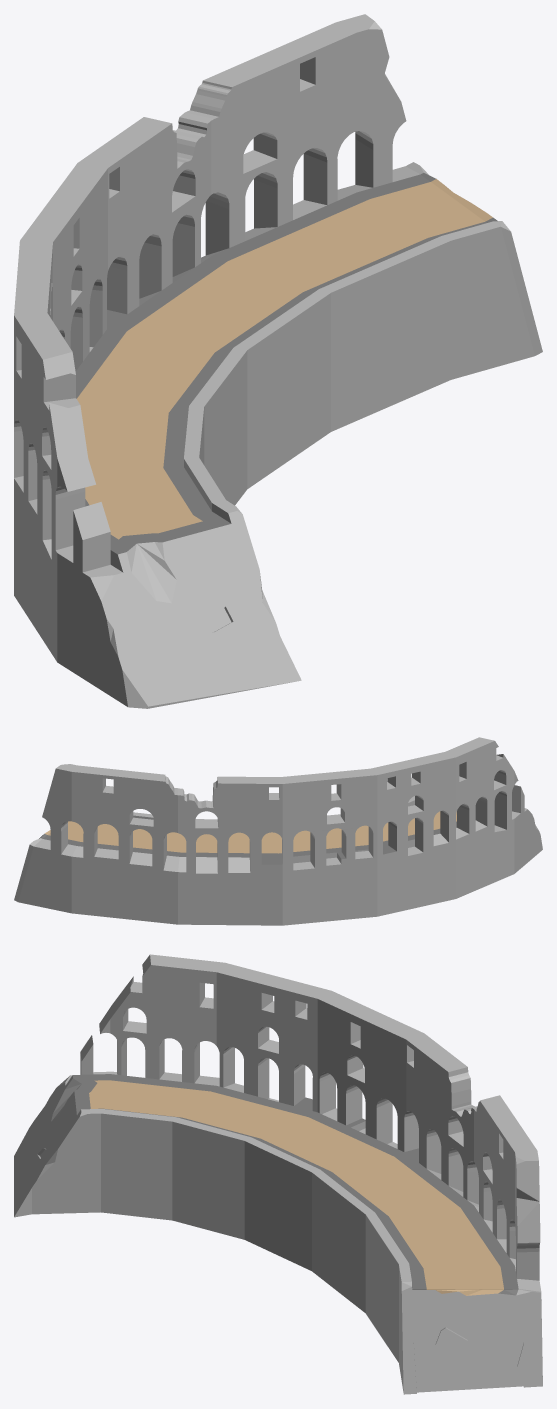
File: Prop_Ruins_Colosseum_Chunk_01.FBX
The picture shows the model from 3 angles, top to bottom: view 1: azimuth 30°, elevation 25°; view 2: azimuth 150°, elevation 25°; view 3: azimuth 270°, elevation 25°; orthographic projection. The views are drawn at different scales.
Visible parts, largest first — view 1: Prop_Ruins_Colosseum_Chunk_01; view 2: Prop_Ruins_Colosseum_Chunk_01; view 3: Prop_Ruins_Colosseum_Chunk_01.
Part boxes in pixels (x1,y1,x2,y2): Prop_Ruins_Colosseum_Chunk_01: (14,14,542,708); Prop_Ruins_Colosseum_Chunk_01: (14,737,542,925); Prop_Ruins_Colosseum_Chunk_01: (14,954,542,1394).
Size of the model in its own units: 42328 by 17019 by 39517.
